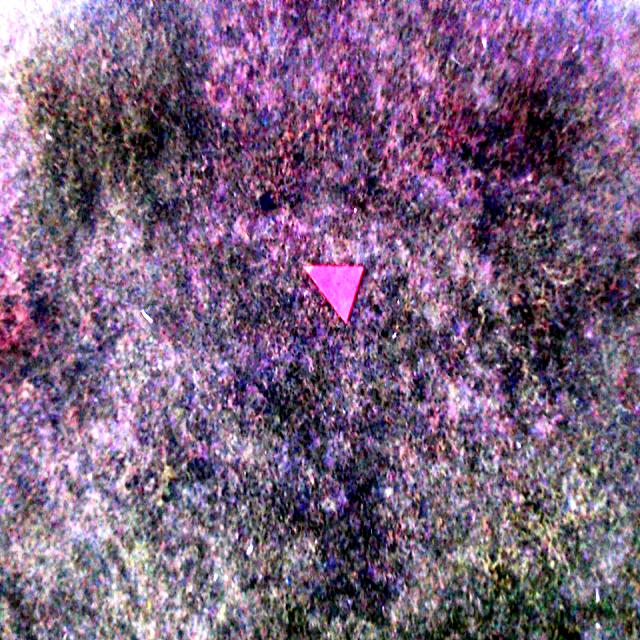red_triangle: (302, 263, 365, 324)
